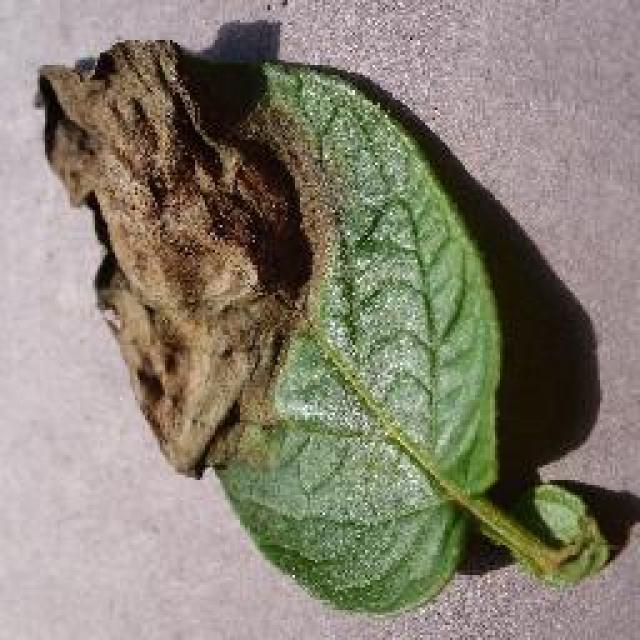Potato___Late_blight: (20, 15, 620, 637)
